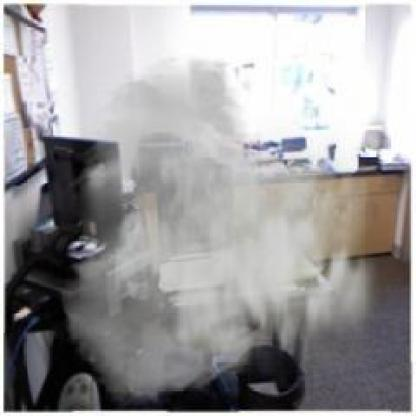Smoke: (59, 52, 393, 409)
